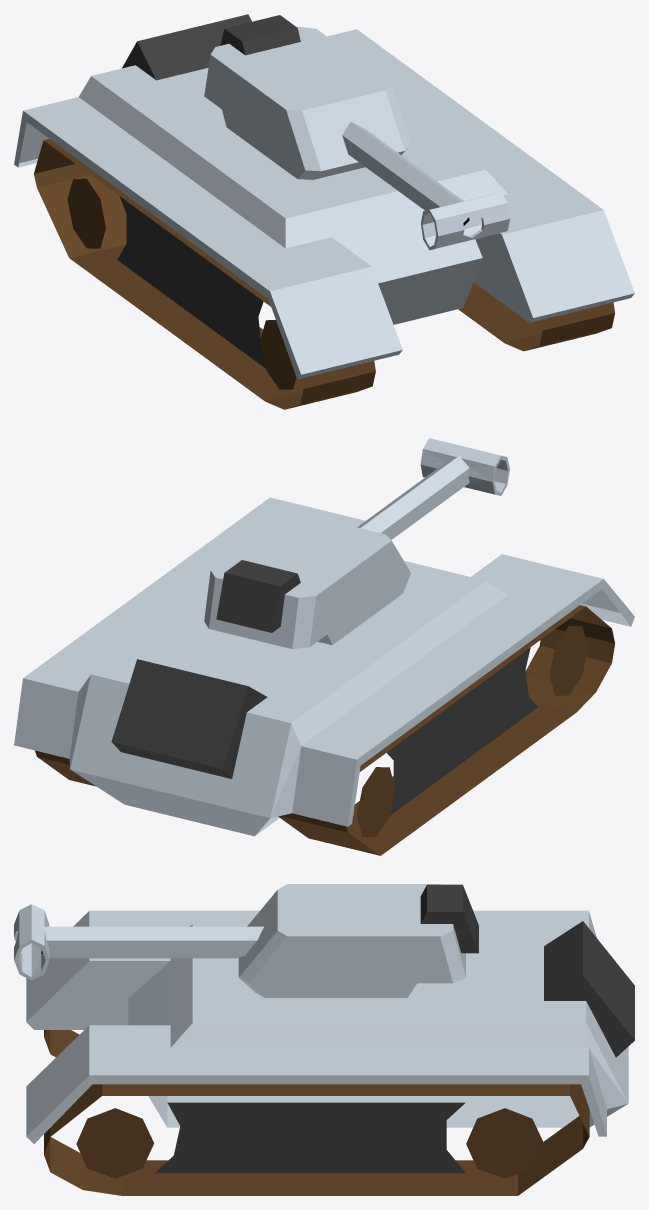
File: tank.FBX
3 views of the same model, one above another, from view 1: azimuth 30°, elevation 25°; view 2: azimuth 150°, elevation 25°; view 3: azimuth 270°, elevation 25° (orthographic).
Parts seen in each view (by area): view 1: Body (×3), Head (×2), turret; view 2: Body (×3), Head (×2), turret; view 3: Body (×3), Head (×2), turret.
Boxes of the visible parts, bbox=[...] form: Body (×3): bbox=[14, 14, 634, 409]; Head (×2): bbox=[204, 15, 410, 179]; turret: bbox=[342, 122, 510, 250]; Body (×3): bbox=[14, 497, 634, 855]; Head (×2): bbox=[204, 514, 410, 649]; turret: bbox=[357, 438, 509, 539]; Body (×3): bbox=[26, 910, 634, 1195]; Head (×2): bbox=[238, 884, 478, 997]; turret: bbox=[14, 904, 263, 980].
Bounding box in the file's own units: 76.34 × 47.71 × 122.
